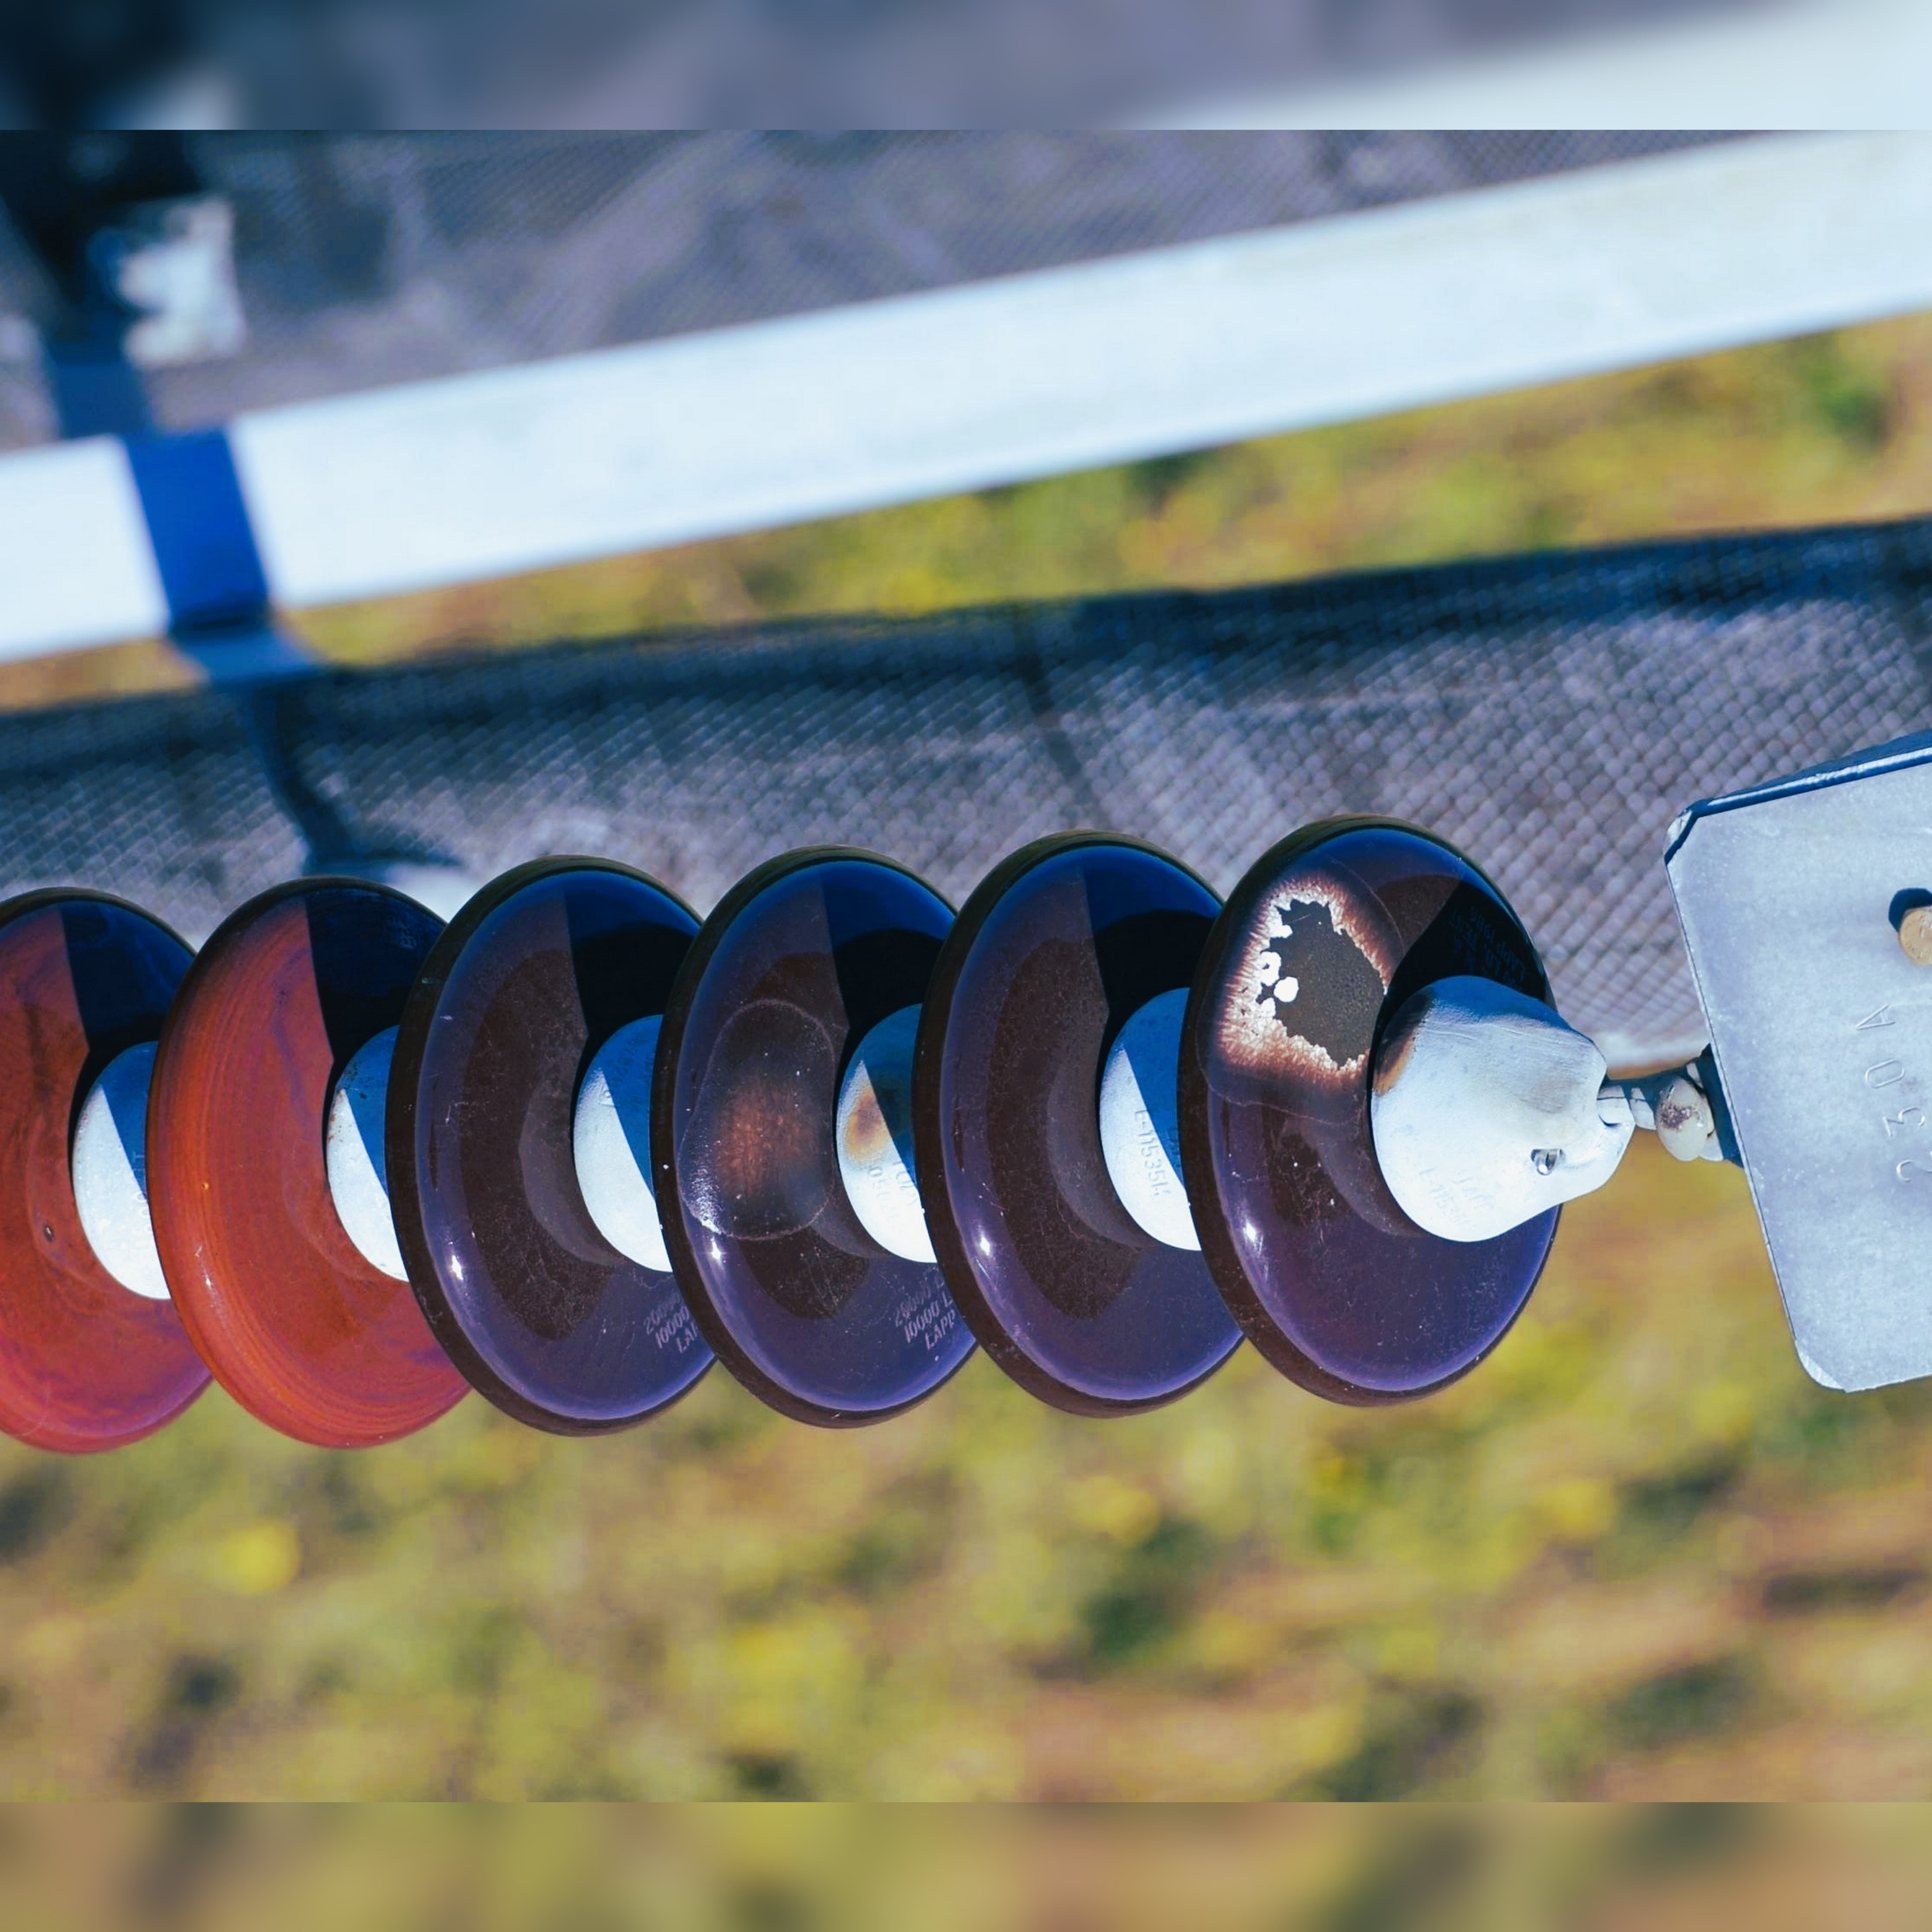Insulator flashover: (1162, 798, 1583, 1415)
